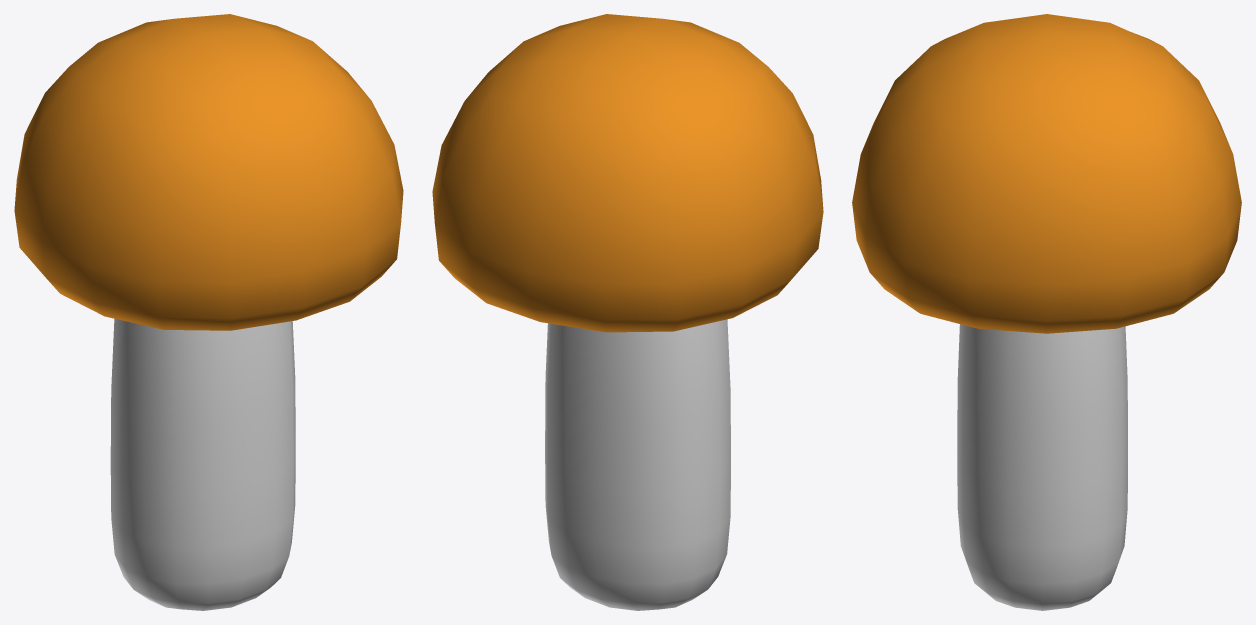
Rendered from organ6.fbx.
3 views of the same model, side by side, from view 1: azimuth 30°, elevation 25°; view 2: azimuth 150°, elevation 25°; view 3: azimuth 270°, elevation 25° (orthographic).
Visible parts, largest first — view 1: organ, 立方体; view 2: organ, 立方体; view 3: organ, 立方体.
Part boxes in pixels (<box>): organ: <box>14,14,403,330</box>; 立方体: <box>110,318,295,610</box>; organ: <box>432,14,823,332</box>; 立方体: <box>545,319,730,610</box>; organ: <box>852,14,1241,333</box>; 立方体: <box>957,324,1127,610</box>.
Size of the model in its own units: 211 by 337 by 211.
